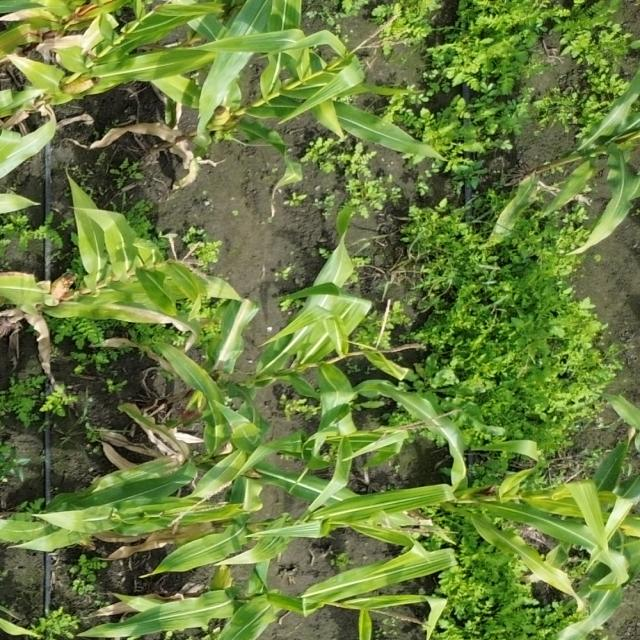gray-leaf-spot: (43, 488, 130, 551)
northern-leaf-blight: (22, 26, 106, 84), (215, 284, 257, 384), (0, 252, 48, 292)
